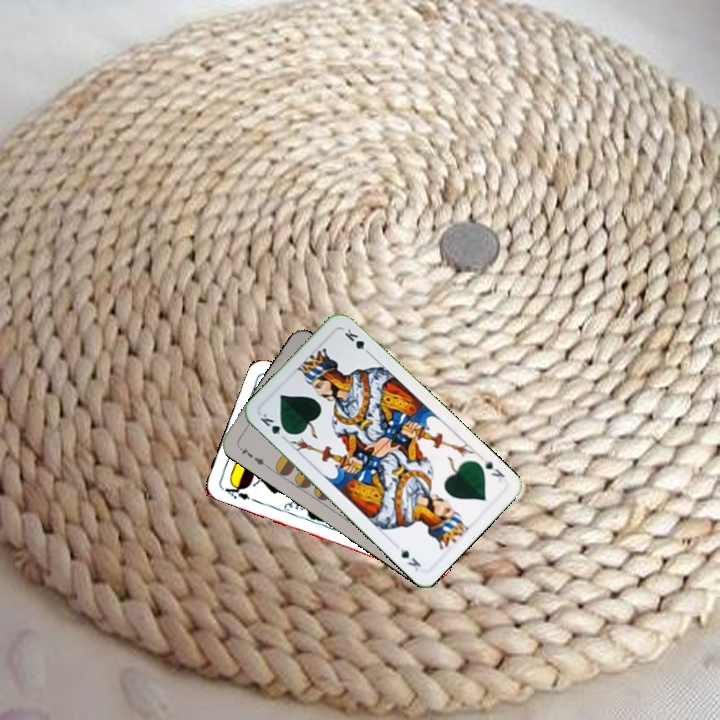E7: (234, 442, 270, 470)
EA: (218, 479, 253, 503)
GK: (256, 409, 292, 442), (480, 455, 508, 486)
